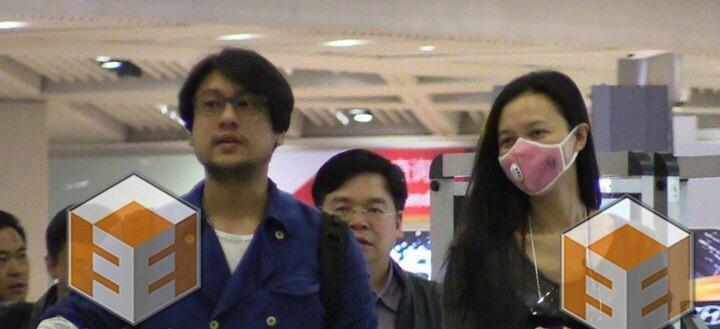NONE: (196, 91, 270, 167), (328, 190, 394, 259), (1, 241, 30, 305)
OK: (491, 114, 573, 196)
